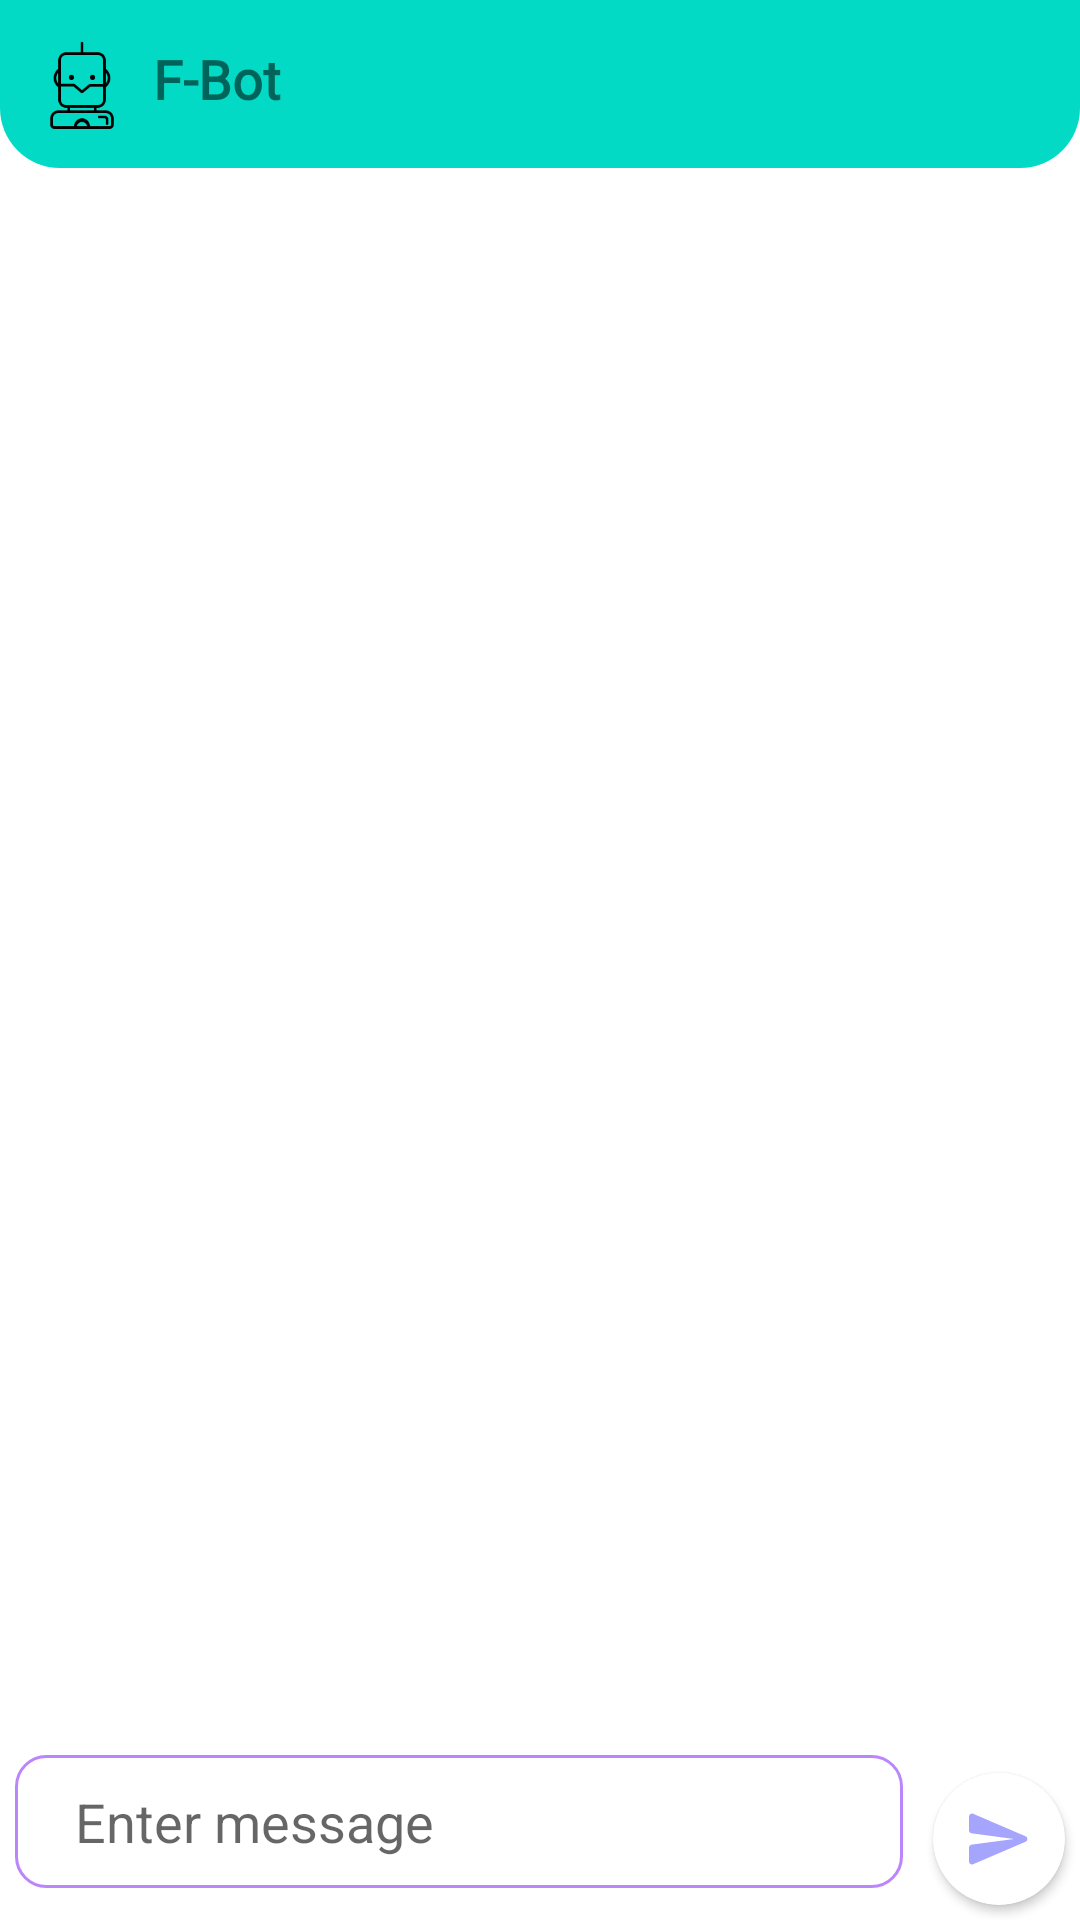

Where to tap for icons on this 1080*1920 app screen, as (x,y):
send: (998,1839)
